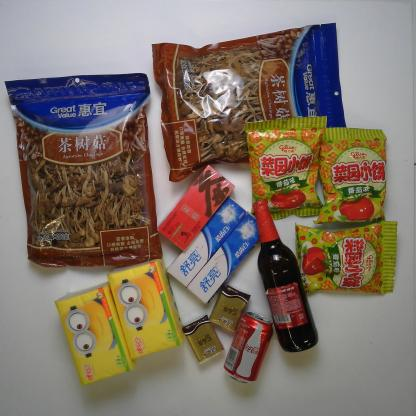Alcohol: (251, 198, 319, 353)
Dried Food: (1, 72, 164, 270), (147, 22, 347, 183)
Drink: (222, 311, 274, 384)
Instant Drink: (156, 164, 235, 252)
Personal Hygiene: (166, 196, 249, 288), (186, 211, 260, 305)
Puffed Food: (245, 115, 329, 220), (294, 221, 398, 296), (312, 126, 387, 225)
Tissue: (53, 281, 136, 386), (106, 257, 184, 361), (182, 313, 226, 364), (208, 282, 251, 333)
